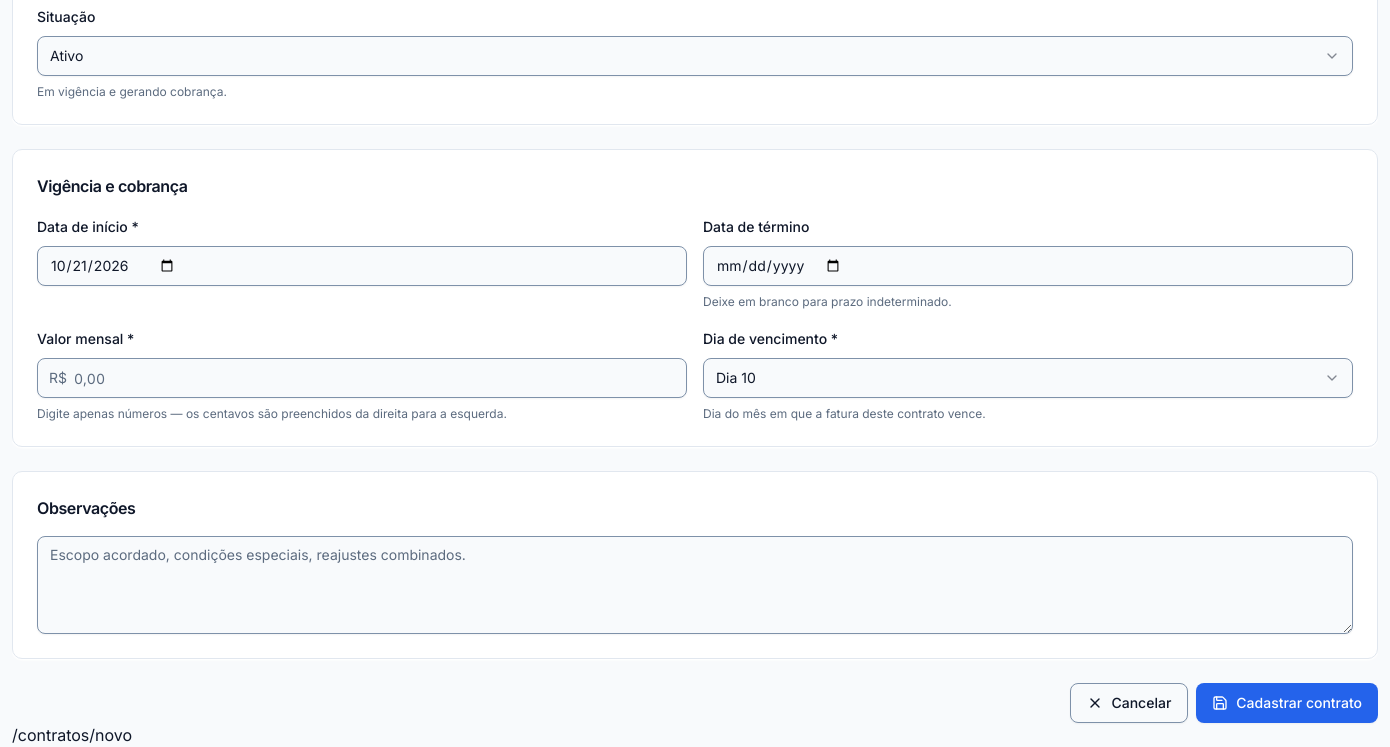
Test: contrato sem cliente › valor mensal zero é recusado
(page scrolled)
In the field labelled "Valor mensal *": (362, 378) [37, 358, 687, 398], type "0"
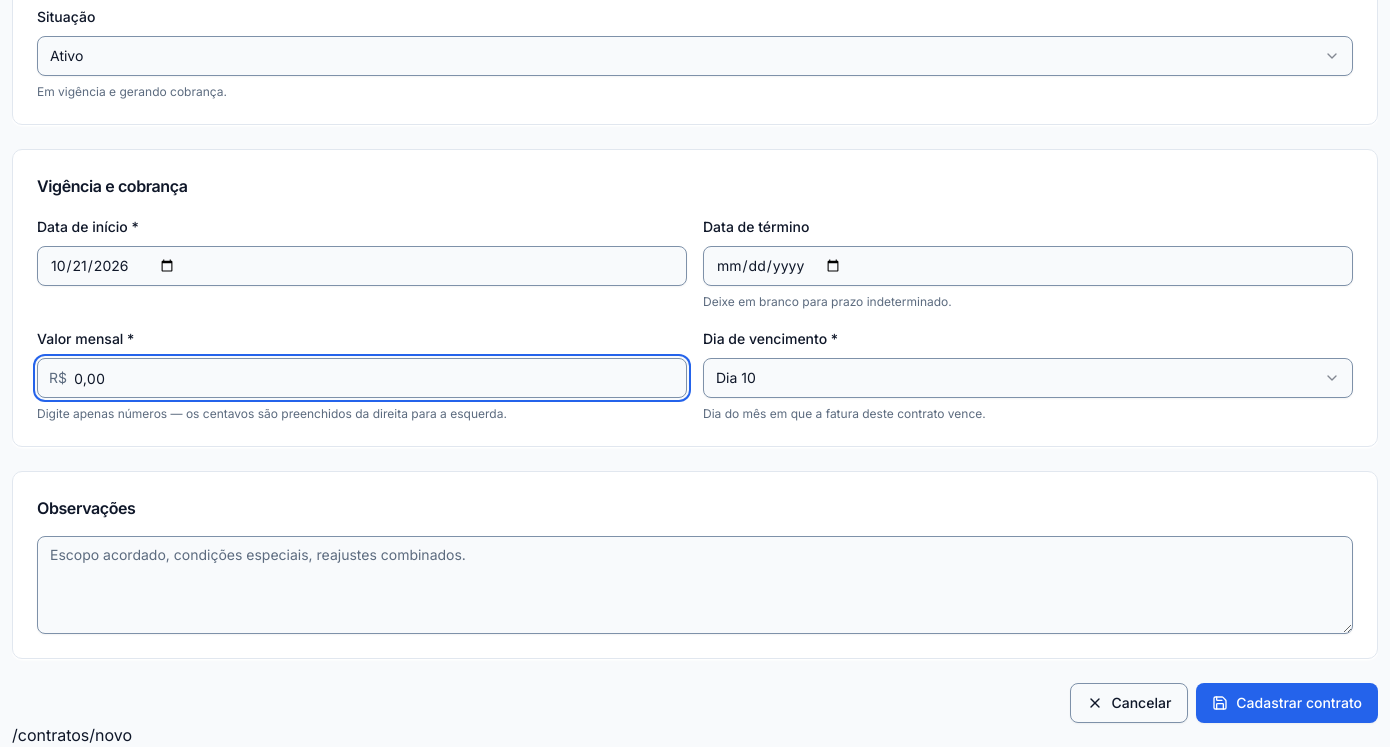
Click the button "Cadastrar contrato": (1287, 703) [1196, 683, 1378, 723]
(page scrolled)
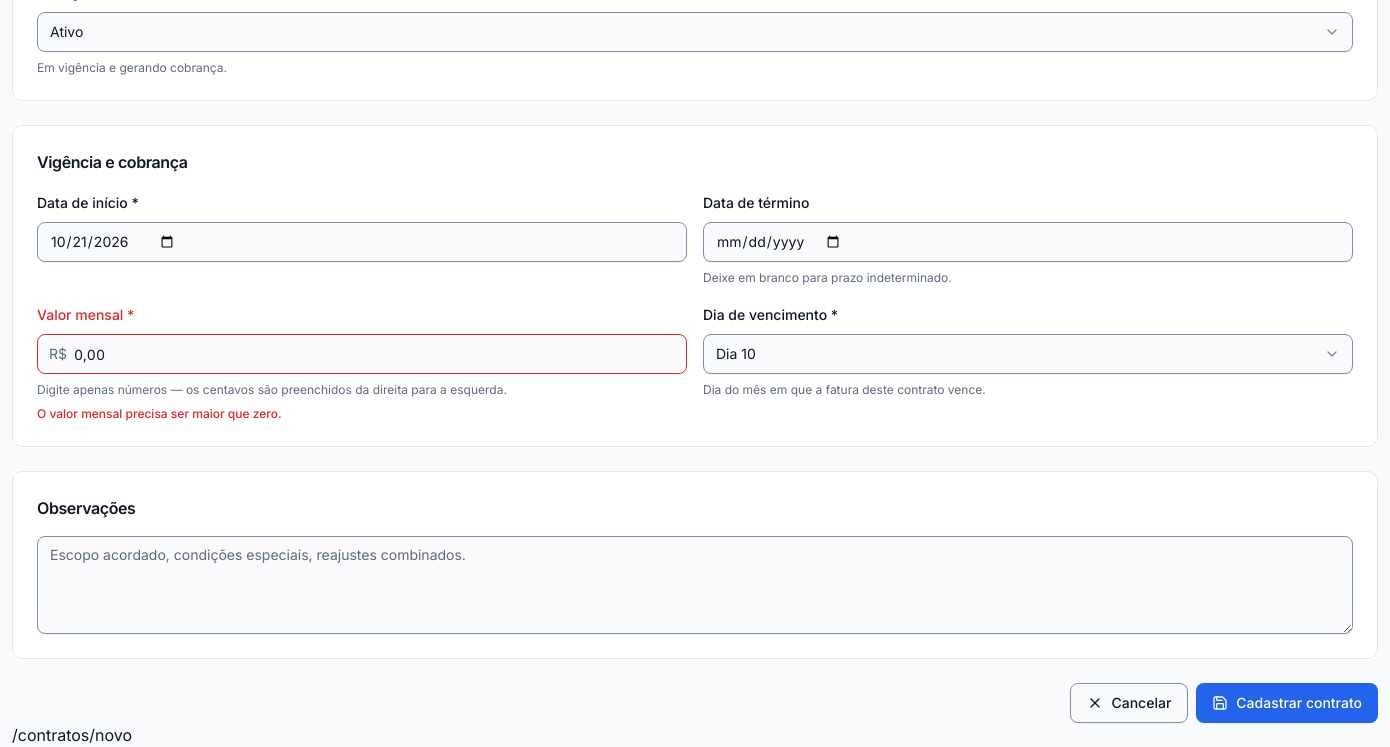
Check: the field labelled "Valor mensal *" holds "0,00", box [37, 334, 687, 374]
Check: the text "O valor mensal precisa ser maior que zero." is shown, box [37, 406, 282, 421]
